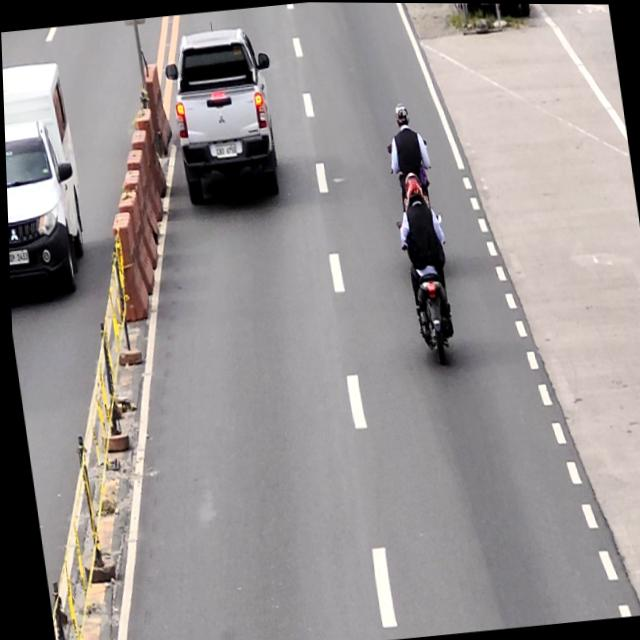Car: (160, 22, 287, 210)
License-Plate: (214, 142, 237, 158)
Motorcycle: (394, 213, 459, 369), (385, 130, 436, 214)
